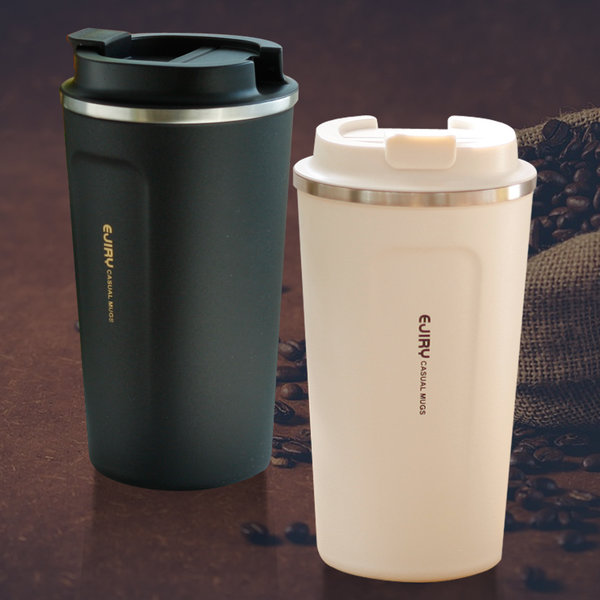Tumbler: (293, 98, 561, 582), (48, 13, 292, 498)
